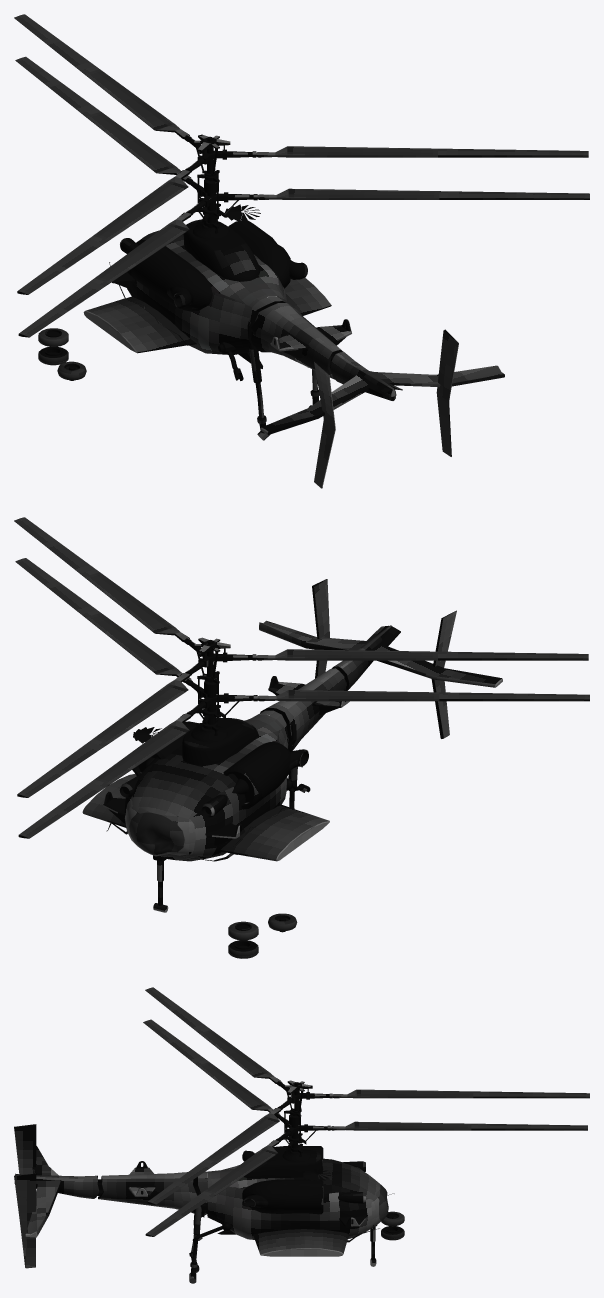
File: small_helicopter_broken.fbx
3 renders of one model, top to bottom at view 1: azimuth 30°, elevation 25°; view 2: azimuth 150°, elevation 25°; view 3: azimuth 270°, elevation 25°, orthographic. The views are drawn at different scales.
Visible parts, largest first — view 1: smallhelicopter_broken_base, smallhelicopter_broken_rotorblades_top, smallhelicopter_broken_rotorblades_bottom, smallhelicopter_broken_tail, smallhelicopter_broken_mid_body, smallhelicopter_broken_wingleft, smallhelicopter_broken_engine, smallhelicopter_broken_backwing_right, smallhelicopter_broken_backwing_left, smallhelicopter_broken_front_wheel, smallhelicopter_broken_wing_right, smallhelicopter_broken_landinggear_left; view 2: smallhelicopter_broken_base, smallhelicopter_broken_rotorblades_bottom, smallhelicopter_broken_rotorblades_top, smallhelicopter_broken_tail, smallhelicopter_broken_wingleft, smallhelicopter_broken_mid_body, smallhelicopter_broken_engine, smallhelicopter_broken_backwing_left, smallhelicopter_broken_backwing_right, smallhelicopter_broken_front_wheel, smallhelicopter_broken_wing_right; view 3: smallhelicopter_broken_base, smallhelicopter_broken_rotorblades_bottom, smallhelicopter_broken_rotorblades_top, smallhelicopter_broken_mid_body, smallhelicopter_broken_tail, smallhelicopter_broken_wing_right, smallhelicopter_broken_backwing_right, smallhelicopter_broken_backwing_left, smallhelicopter_broken_front_wheel.
Part boxes in pixels (x1,y1,x2,y2): smallhelicopter_broken_base: (109,216,308,380); smallhelicopter_broken_rotorblades_top: (14,14,588,294); smallhelicopter_broken_rotorblades_bottom: (15,56,589,337); smallhelicopter_broken_tail: (261,352,504,434); smallhelicopter_broken_mid_body: (251,302,351,379); smallhelicopter_broken_wingleft: (83,298,185,353); smallhelicopter_broken_engine: (134,246,211,308); smallhelicopter_broken_backwing_right: (436,329,458,456); smallhelicopter_broken_backwing_left: (314,361,335,488); smallhelicopter_broken_front_wheel: (38,328,68,365); smallhelicopter_broken_wing_right: (284,277,331,315); smallhelicopter_broken_landinggear_left: (249,344,270,440); smallhelicopter_broken_base: (103,710,310,861); smallhelicopter_broken_rotorblades_bottom: (15,558,589,838); smallhelicopter_broken_rotorblades_top: (14,517,588,797); smallhelicopter_broken_tail: (259,620,502,690); smallhelicopter_broken_wingleft: (231,807,329,861); smallhelicopter_broken_mid_body: (260,668,349,751); smallhelicopter_broken_engine: (235,741,308,797); smallhelicopter_broken_backwing_left: (431,610,456,738); smallhelicopter_broken_backwing_right: (312,579,329,678); smallhelicopter_broken_front_wheel: (228,921,258,958); smallhelicopter_broken_wing_right: (82,774,136,822); smallhelicopter_broken_base: (192,1143,394,1243); smallhelicopter_broken_rotorblades_bottom: (143,1019,587,1236); smallhelicopter_broken_rotorblades_top: (145,987,589,1204); smallhelicopter_broken_mid_body: (97,1161,206,1235); smallhelicopter_broken_tail: (14,1146,102,1237); smallhelicopter_broken_wing_right: (256,1235,346,1256); smallhelicopter_broken_backwing_right: (14,1173,36,1268); smallhelicopter_broken_backwing_left: (14,1124,36,1174); smallhelicopter_broken_front_wheel: (381,1211,404,1240).
Bounding box in the file's own units: 674 × 282 × 757.
Materials: 1 (1 with a texture image).
